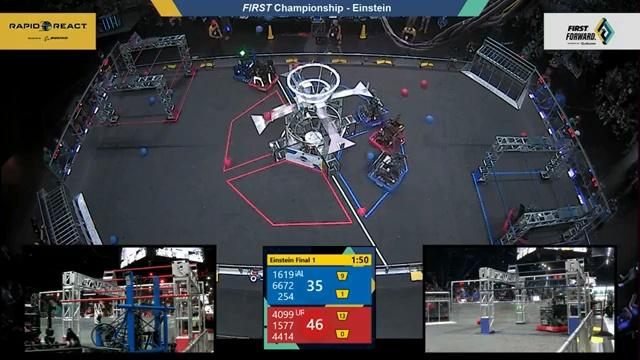robot: (497, 202, 545, 243), (364, 153, 412, 193), (351, 85, 389, 129), (368, 116, 409, 156), (223, 43, 257, 82), (247, 56, 281, 92)
